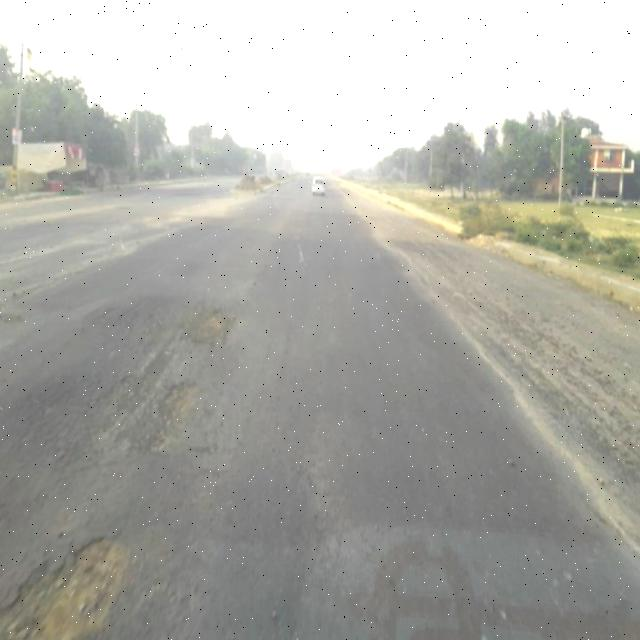D20: (180, 332, 310, 470), (1, 359, 100, 476), (87, 271, 189, 347)
D40: (24, 342, 230, 486), (9, 521, 136, 638), (58, 276, 242, 344)
